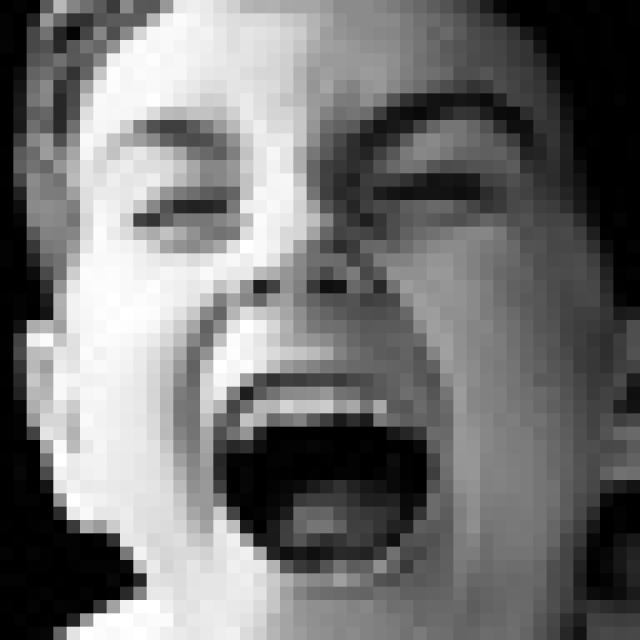angry: (95, 80, 544, 605)
